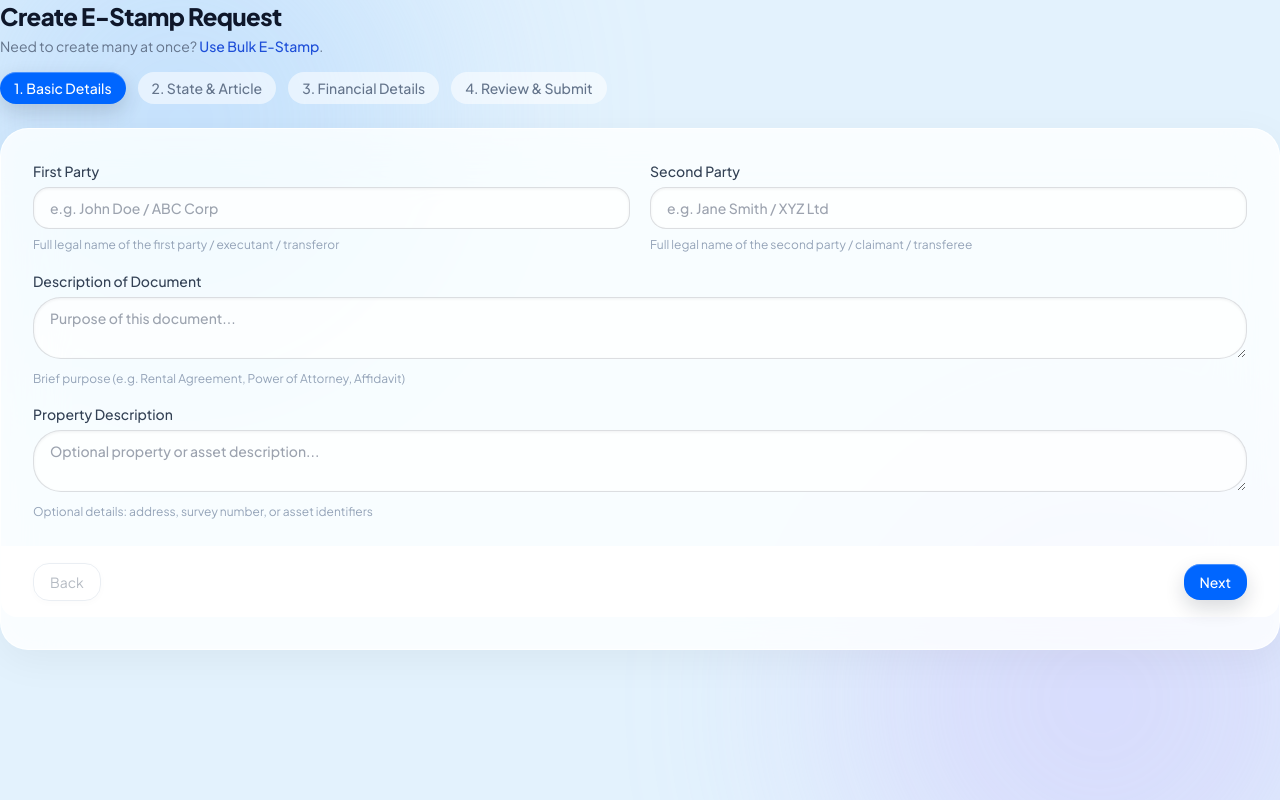
Scenario: NewRequestPage - Review & Submit › labels the field 'Stamp Duty' (not 'Consideration Price') for a CUSTOM-rule article, since the filer's entry IS the duty
Type "Alice" into the field labelled "First Party".
click(332, 208); type("Alice")  # box [33,187,630,229]
Type "Bob" into the field labelled "Second Party".
click(948, 208); type("Bob")  # box [650,187,1247,229]
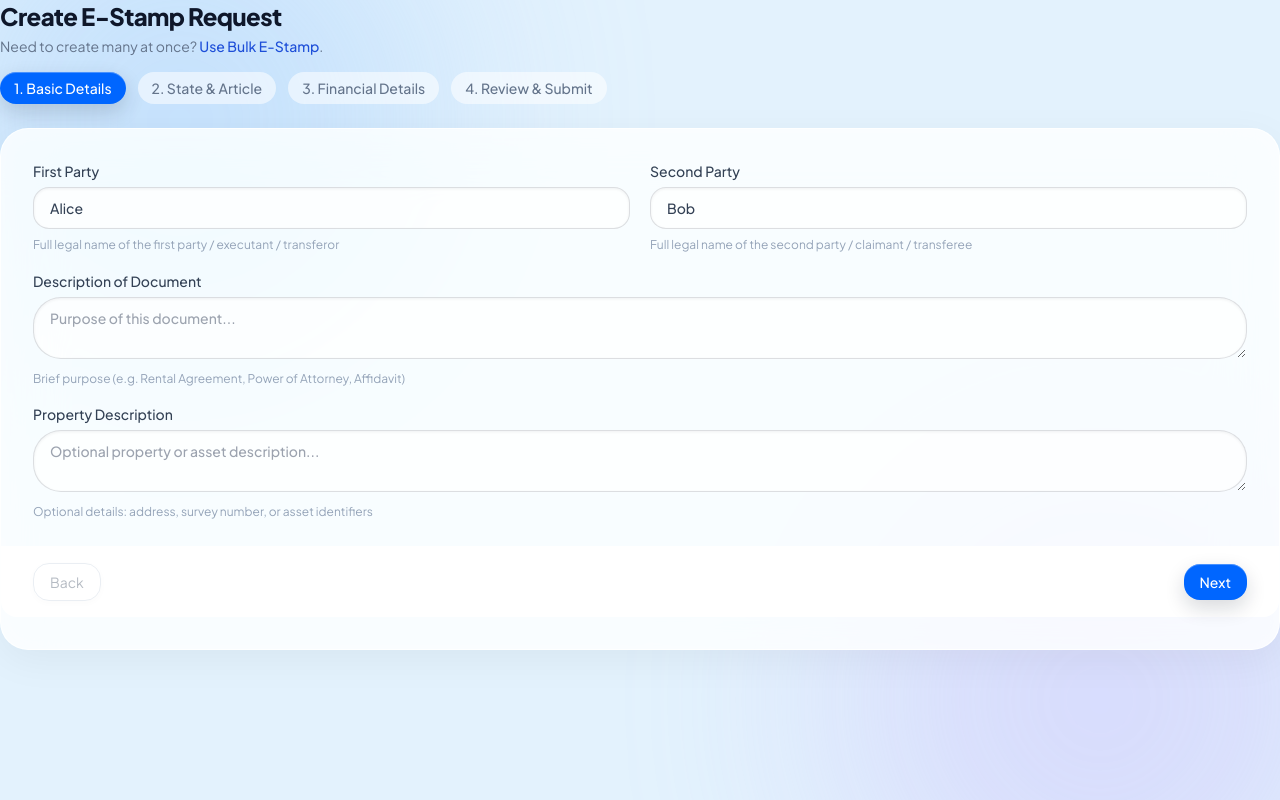
Type "Lease agreement for testing" into the text box labelled "Description of Document".
click(640, 328); type("Lease agreement for testing")  # box [33,296,1247,358]
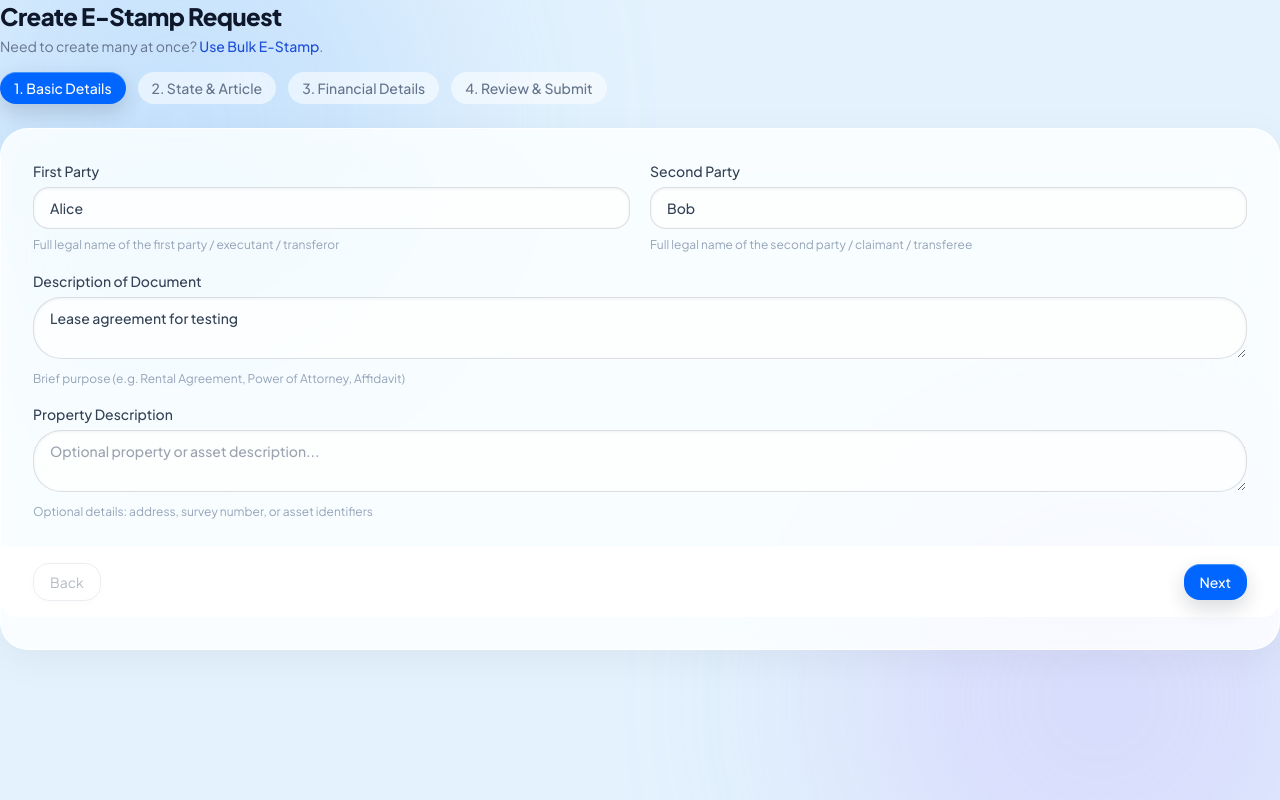
Click the button "Next".
click(1215, 582)  # box [1184,564,1247,600]
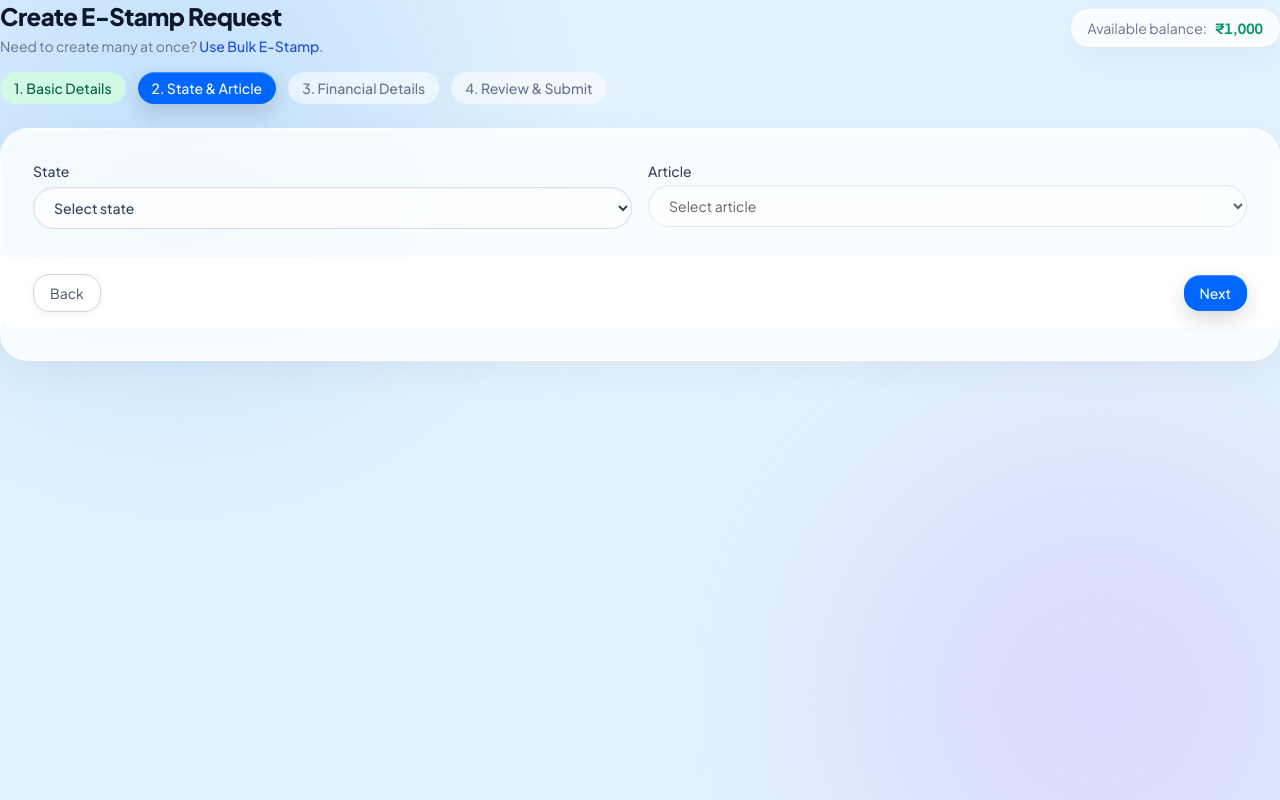
Select "Karnataka" in the dropdown labelled "State" at (332, 208), box [33,187,632,229]
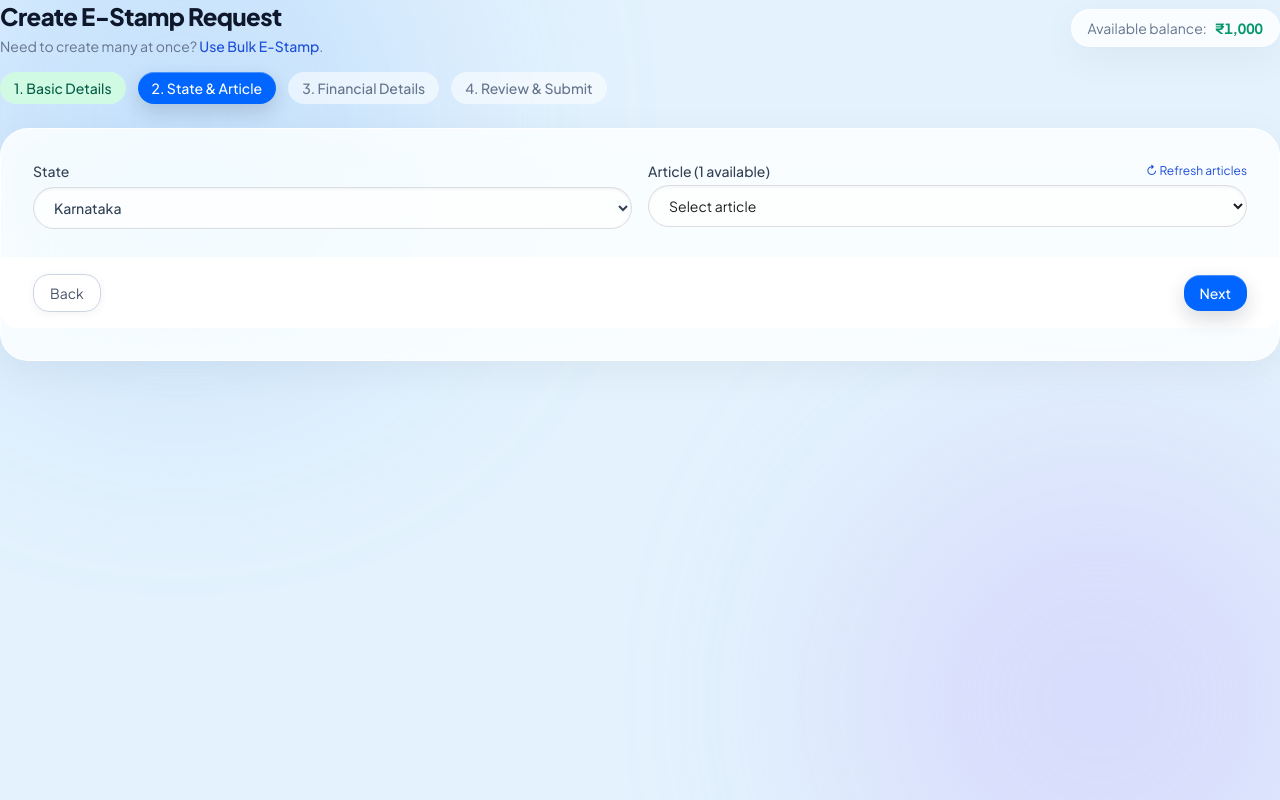
Select "1. 30(1)(i) - Lease of Immovable Property" in the dropdown labelled "Article (1 available)" at (948, 206), box [648,185,1247,227]
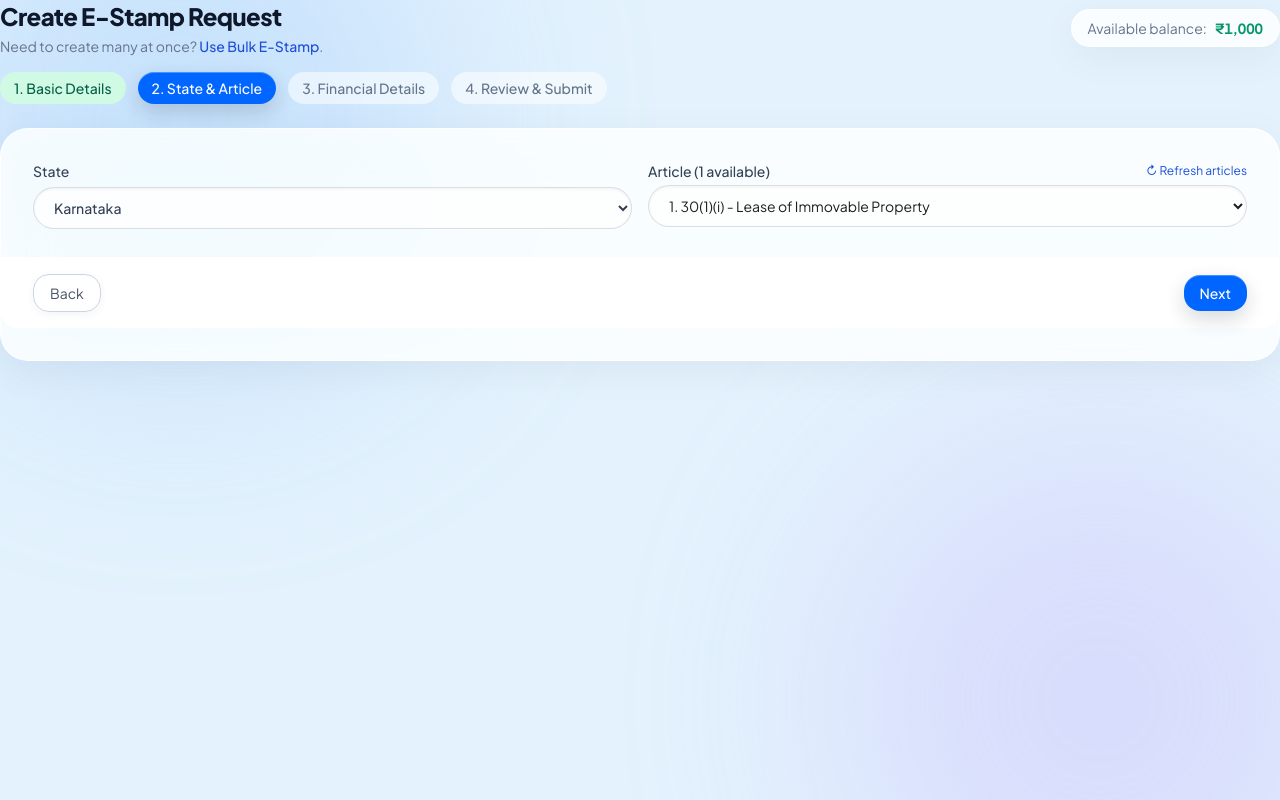
Click the button "Next".
click(1215, 293)  # box [1184,275,1247,311]
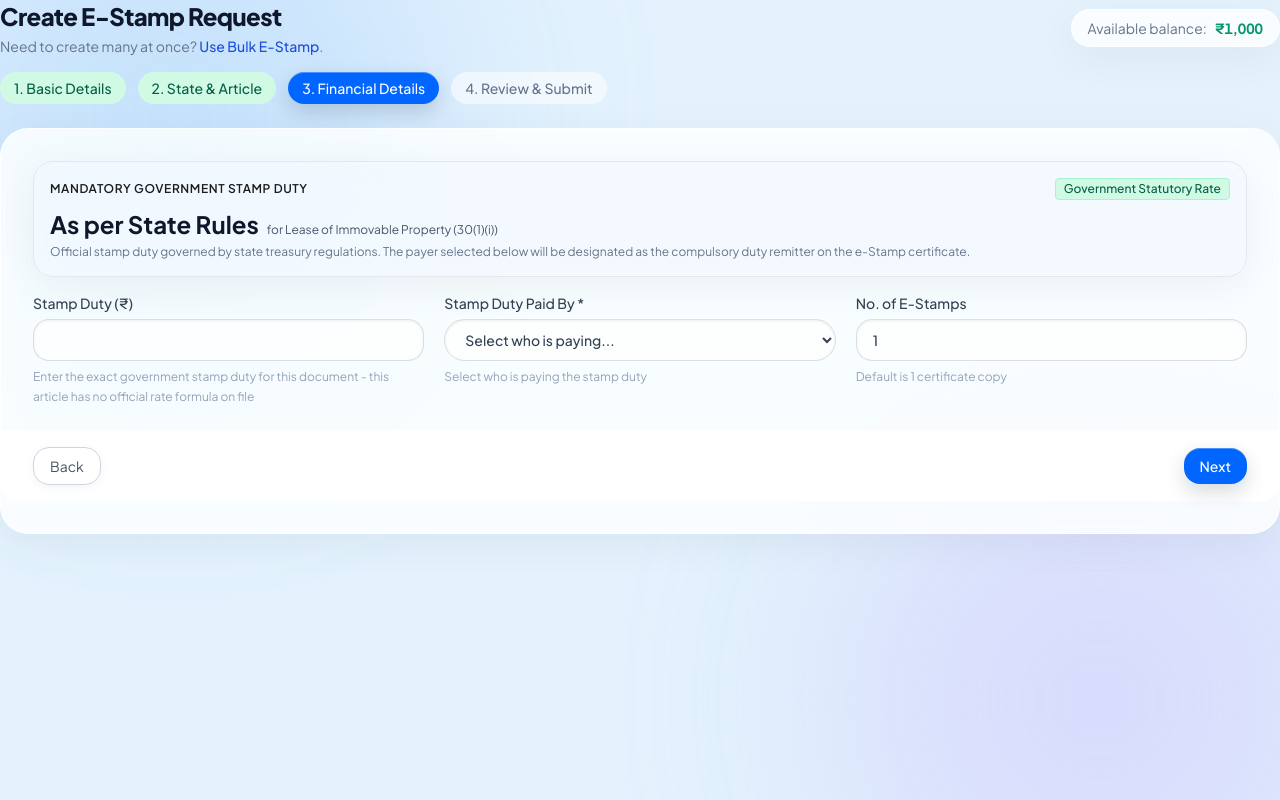
Now the number field labelled "Stamp Duty (₹)" is shown, box [33,319,424,361]
